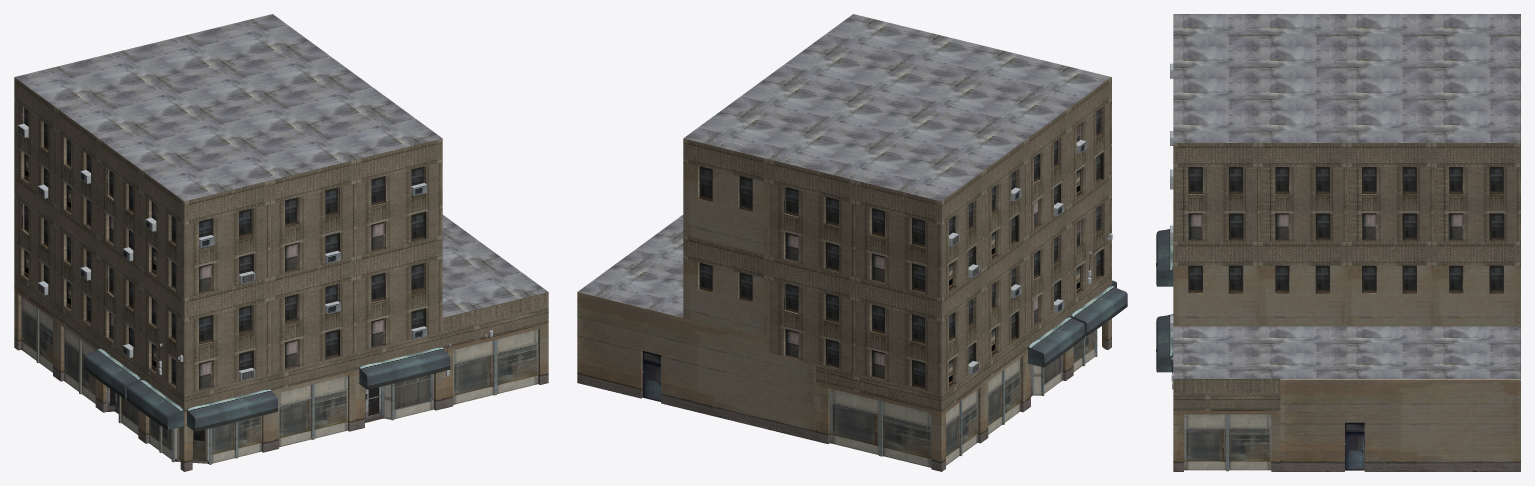
Rendered from corner_round_lod.glb.
The picture shows the model from 3 angles, left to right: view 1: azimuth 30°, elevation 25°; view 2: azimuth 150°, elevation 25°; view 3: azimuth 270°, elevation 25°; orthographic projection. The views are drawn at different scales.
Visible parts, largest first — view 1: Brownstone_Commercial_1_C_Brownstone_Facade_Flr_5_0, Brownstone_Commercial_1_C_Midcity_Facade_FLR_1_0; view 2: Brownstone_Commercial_1_C_Brownstone_Facade_Flr_5_0, Brownstone_Commercial_1_C_Midcity_Facade_FLR_1_0; view 3: Brownstone_Commercial_1_C_Brownstone_Facade_Flr_5_0, Brownstone_Commercial_1_C_Midcity_Facade_FLR_1_0.
Boxes of the visible parts, left/top/right/bottom form: Brownstone_Commercial_1_C_Brownstone_Facade_Flr_5_0: left=14, top=14, right=548, bottom=471; Brownstone_Commercial_1_C_Midcity_Facade_FLR_1_0: left=17, top=124, right=538, bottom=464; Brownstone_Commercial_1_C_Brownstone_Facade_Flr_5_0: left=577, top=14, right=1111, bottom=471; Brownstone_Commercial_1_C_Midcity_Facade_FLR_1_0: left=642, top=140, right=1127, bottom=467; Brownstone_Commercial_1_C_Brownstone_Facade_Flr_5_0: left=1173, top=14, right=1520, bottom=471; Brownstone_Commercial_1_C_Midcity_Facade_FLR_1_0: left=1156, top=63, right=1364, bottom=471.
Size of the model in its own units: 29704 by 20118 by 24071.
Materials: 2 (2 with a texture image).
